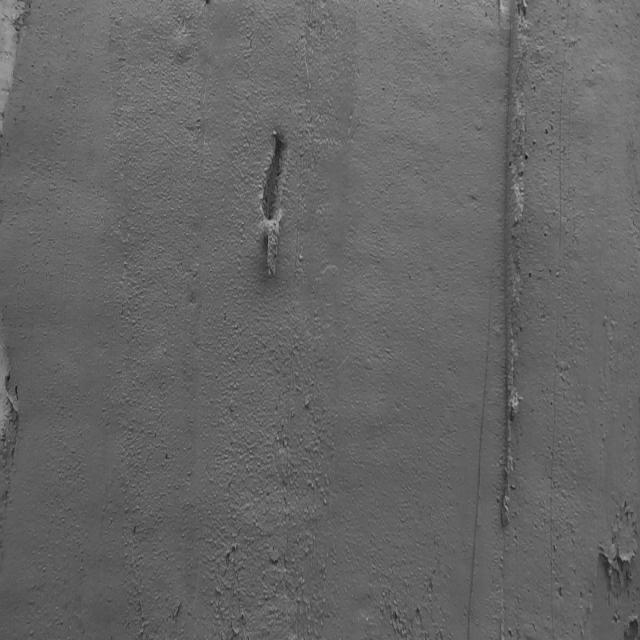trowels marks: (496, 0, 532, 640), (463, 281, 495, 640)
